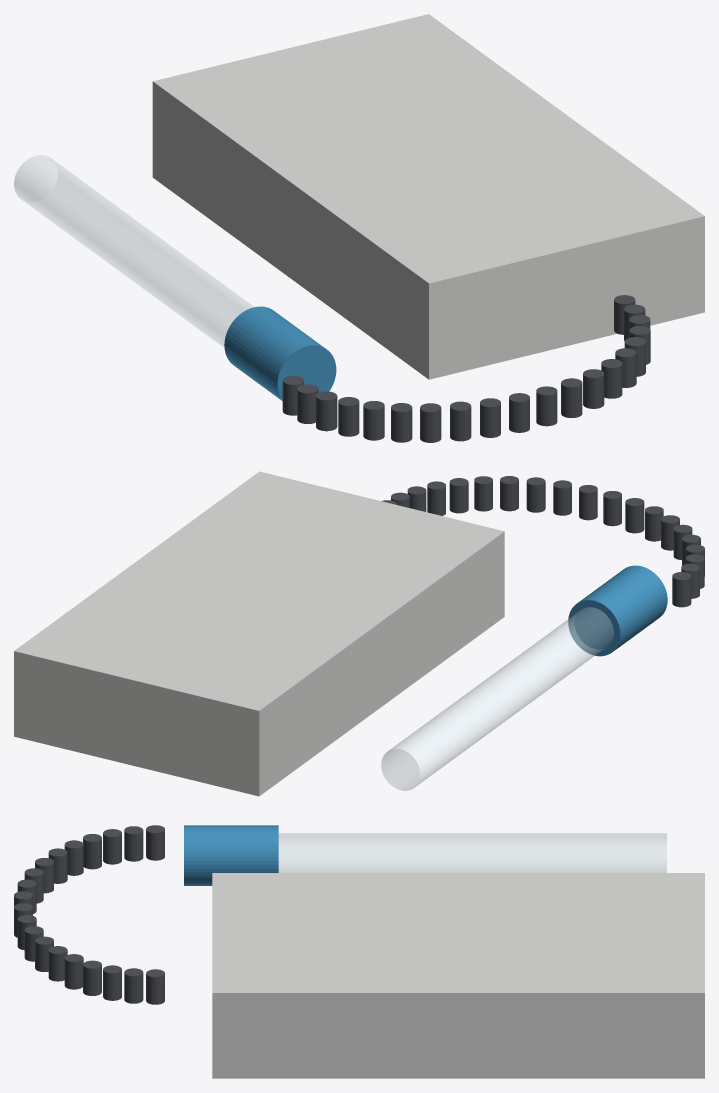
Rendered from modelo.glb.
3 renders of one model, top to bottom at view 1: azimuth 30°, elevation 25°; view 2: azimuth 150°, elevation 25°; view 3: azimuth 270°, elevation 25°, orthographic. The views are drawn at different scales.
Visible parts, largest first — view 1: corpo, eletrodo, cabo_eletrodo, cabo1.984163781214606, cabo1.4881228359109546, cabo2.4802047265182576, cabo1.3227758541430708, cabo2.3148577447503738, cabo2.8108986900540254, cabo1.1574288723751869, cabo2.14951076298249, cabo2.6455517082861415 (+6 smaller); view 2: corpo, eletrodo, cabo_eletrodo, cabo0.6613879270715354, cabo1.1574288723751869, cabo1.8188167994467224, cabo3.141592653589793, cabo0.8267349088394192, cabo0.992081890607303, cabo1.3227758541430708, cabo1.4881228359109546, cabo1.6534698176788385 (+3 smaller); view 3: corpo, eletrodo, cabo_eletrodo, cabo0.16534698176788384, cabo2.9762456718219092, cabo0.6613879270715354, cabo0.3306939635357677, cabo2.8108986900540254, cabo0.4960409453036515, cabo2.6455517082861415, cabo3.141592653589793, cabo0.0 (+8 smaller).
Boxes of the visible parts, <box> form: corpo: <box>152,14,704,379</box>; eletrodo: <box>14,155,253,347</box>; cabo_eletrodo: <box>224,306,336,400</box>; cabo1.984163781214606: <box>450,401,471,441</box>; cabo1.4881228359109546: <box>536,386,557,426</box>; cabo2.4802047265182576: <box>363,401,384,440</box>; cabo1.3227758541430708: <box>561,378,582,417</box>; cabo2.3148577447503738: <box>391,403,412,442</box>; cabo2.8108986900540254: <box>316,391,337,431</box>; cabo1.1574288723751869: <box>583,369,604,408</box>; cabo2.14951076298249: <box>420,403,441,442</box>; cabo2.6455517082861415: <box>338,397,359,436</box>; corpo: <box>14,471,504,796</box>; eletrodo: <box>381,607,613,790</box>; cabo_eletrodo: <box>568,565,667,656</box>; cabo0.6613879270715354: <box>449,478,468,513</box>; cabo1.1574288723751869: <box>526,477,545,512</box>; cabo1.8188167994467224: <box>625,498,644,533</box>; cabo3.141592653589793: <box>672,572,691,607</box>; cabo0.8267349088394192: <box>474,476,492,511</box>; cabo0.992081890607303: <box>500,476,518,511</box>; cabo1.3227758541430708: <box>553,480,571,515</box>; cabo1.4881228359109546: <box>579,485,597,520</box>; cabo1.6534698176788385: <box>603,491,621,526</box>; corpo: <box>212,873,704,1078</box>; eletrodo: <box>278,833,666,872</box>; cabo_eletrodo: <box>184,825,278,885</box>; cabo0.16534698176788384: <box>124,968,143,1003</box>; cabo2.9762456718219092: <box>124,826,143,861</box>; cabo0.6613879270715354: <box>64,954,83,989</box>; cabo0.3306939635357677: <box>103,965,121,1000</box>; cabo2.8108986900540254: <box>103,829,121,864</box>; cabo0.4960409453036515: <box>83,960,101,995</box>; cabo2.6455517082861415: <box>83,834,101,869</box>; cabo3.141592653589793: <box>146,825,164,860</box>; cabo0.0: <box>146,969,164,1004</box>.
Size of the model in its own units: 0.123 by 0.0295 by 0.1824.
